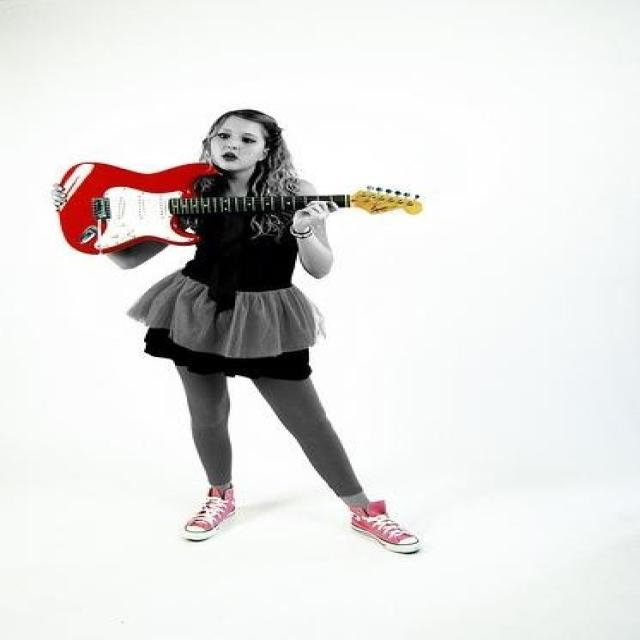guitar: (51, 158, 423, 250)
